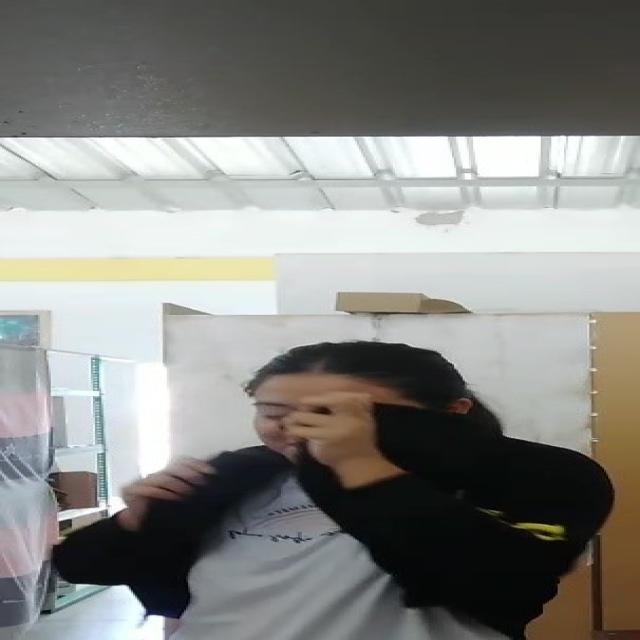8_ropa_rostro: (274, 389, 483, 526)
